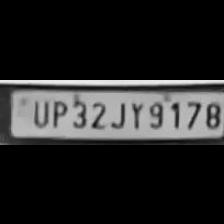1: (164, 98, 182, 130)
2: (88, 98, 106, 130)
3: (68, 96, 86, 128)
7: (182, 98, 200, 130)
8: (201, 99, 221, 129)
9: (144, 98, 166, 130)
J: (108, 96, 126, 128)
P: (48, 97, 68, 127)
U: (29, 96, 49, 127)
Y: (127, 98, 145, 130)
